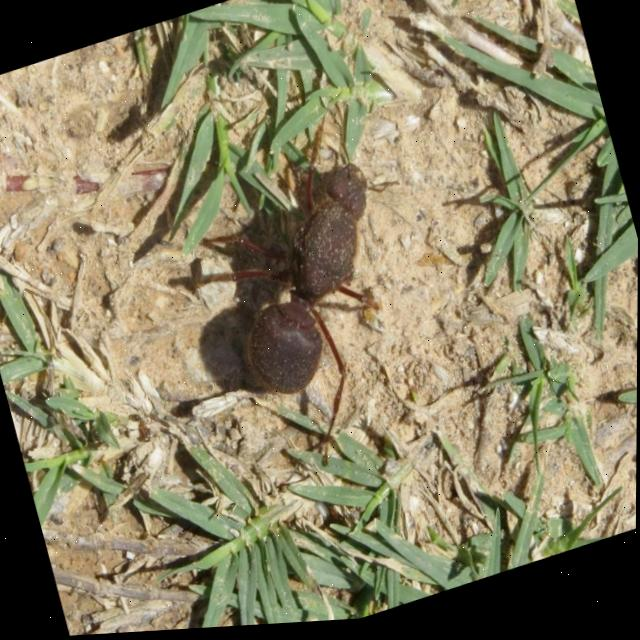Alive-Female-Dealate: (153, 97, 465, 502)
